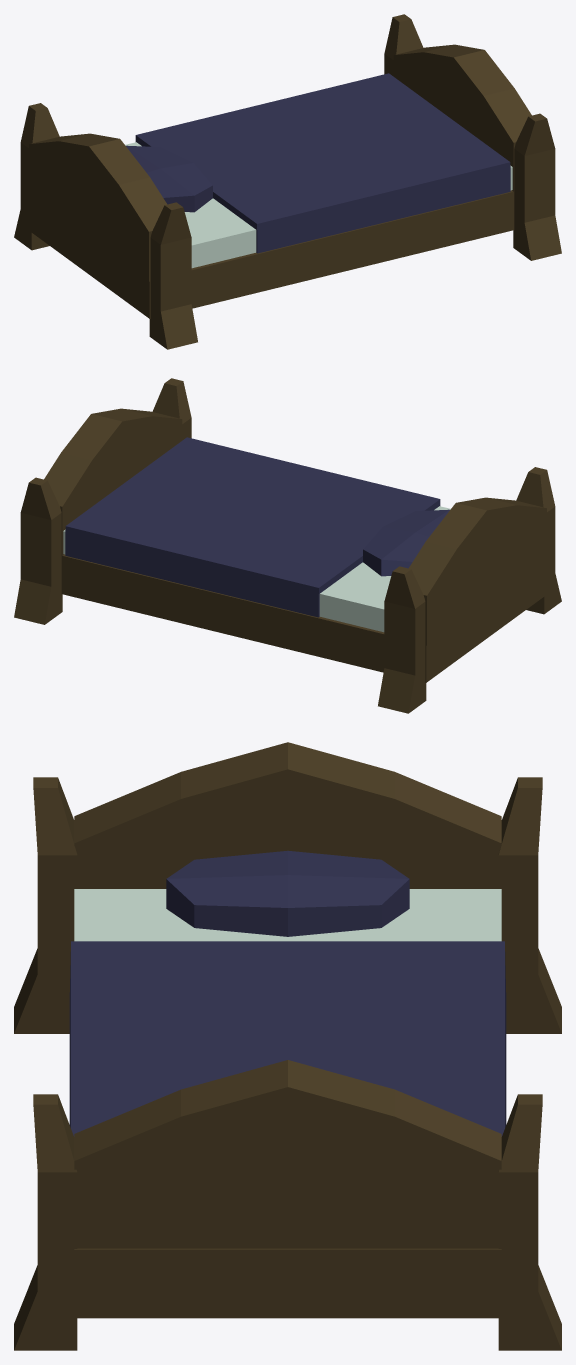
The model's file is Bed.fbx.
The picture shows the model from 3 angles, top to bottom: view 1: azimuth 30°, elevation 25°; view 2: azimuth 150°, elevation 25°; view 3: azimuth 270°, elevation 25°; orthographic projection. The views are drawn at different scales.
Parts seen in each view (by area): view 1: Bed; view 2: Bed; view 3: Bed.
Boxes of the visible parts, bbox=[...] form: Bed: bbox=[14, 14, 561, 349]; Bed: bbox=[14, 378, 561, 713]; Bed: bbox=[14, 742, 561, 1350].
Bounding box in the file's own units: 137 × 48.64 × 91.71.
